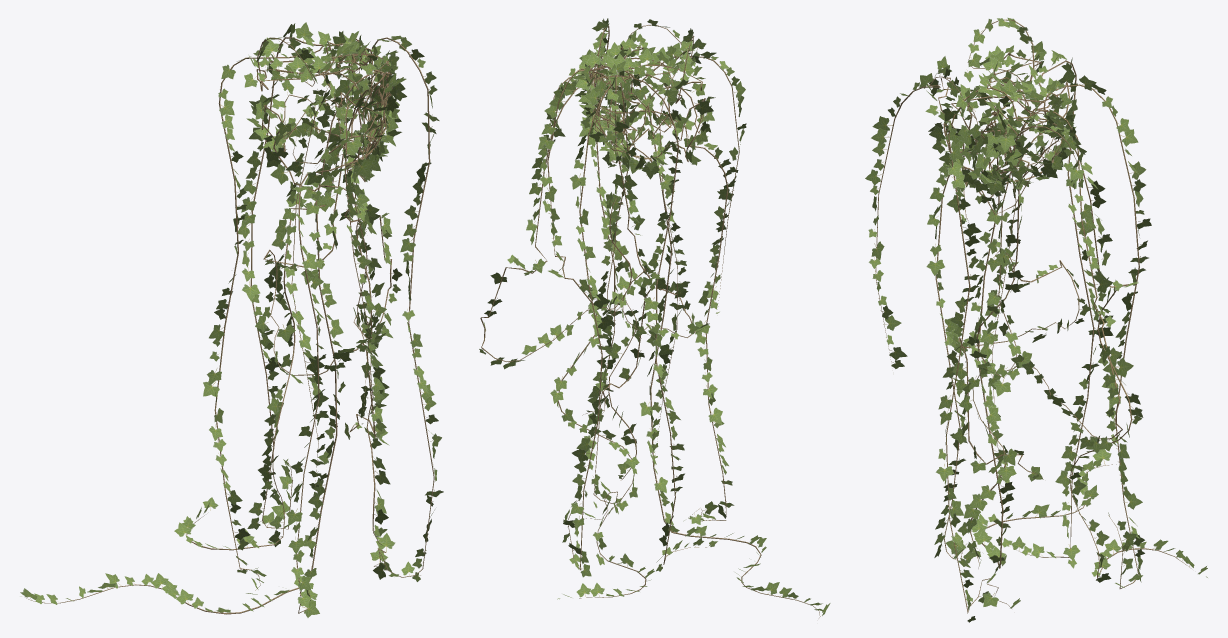
The model's file is ivy_06.fbx.
3 renders of one model, left to right at view 1: azimuth 30°, elevation 25°; view 2: azimuth 150°, elevation 25°; view 3: azimuth 270°, elevation 25°, orthographic. The views are drawn at different scales.
Visible parts, largest first — view 1: NewIvySnapshot_7; view 2: NewIvySnapshot_7; view 3: NewIvySnapshot_7.
Boxes of the visible parts, x1,y1,x2,y2 form: NewIvySnapshot_7: (20, 22, 443, 617); NewIvySnapshot_7: (479, 18, 830, 617); NewIvySnapshot_7: (865, 17, 1207, 622).
Bounding box in the file's own units: 146 × 205 × 118.
